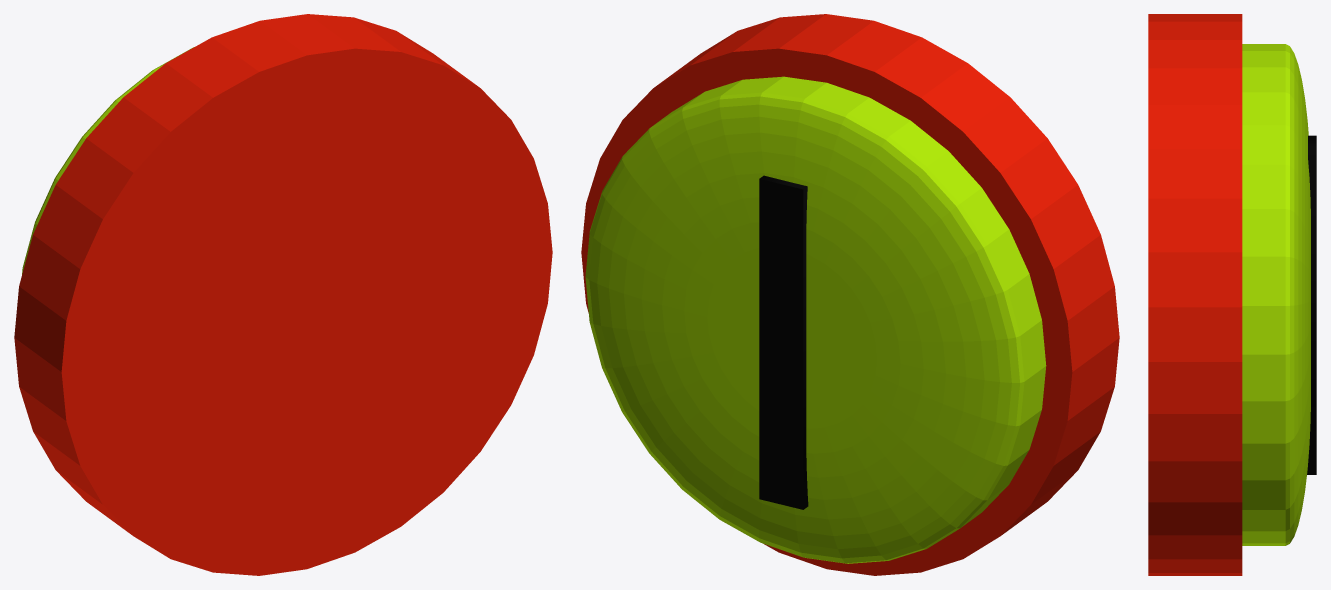
The model's file is one button.gltf.
3 views of the same model, side by side, from view 1: azimuth 30°, elevation 25°; view 2: azimuth 150°, elevation 25°; view 3: azimuth 270°, elevation 25° (orthographic).
Visible parts, largest first — view 1: Cylinder; view 2: Cylinder, Text; view 3: Cylinder, Text.
Part boxes in pixels (x1,y1,x2,y2): Cylinder: (14,14,552,575); Cylinder: (581,14,1119,575); Text: (759,175,808,509); Cylinder: (1148,14,1310,575); Text: (1307,135,1316,474).
Size of the model in its own units: 4.53 by 4.53 by 1.36.
